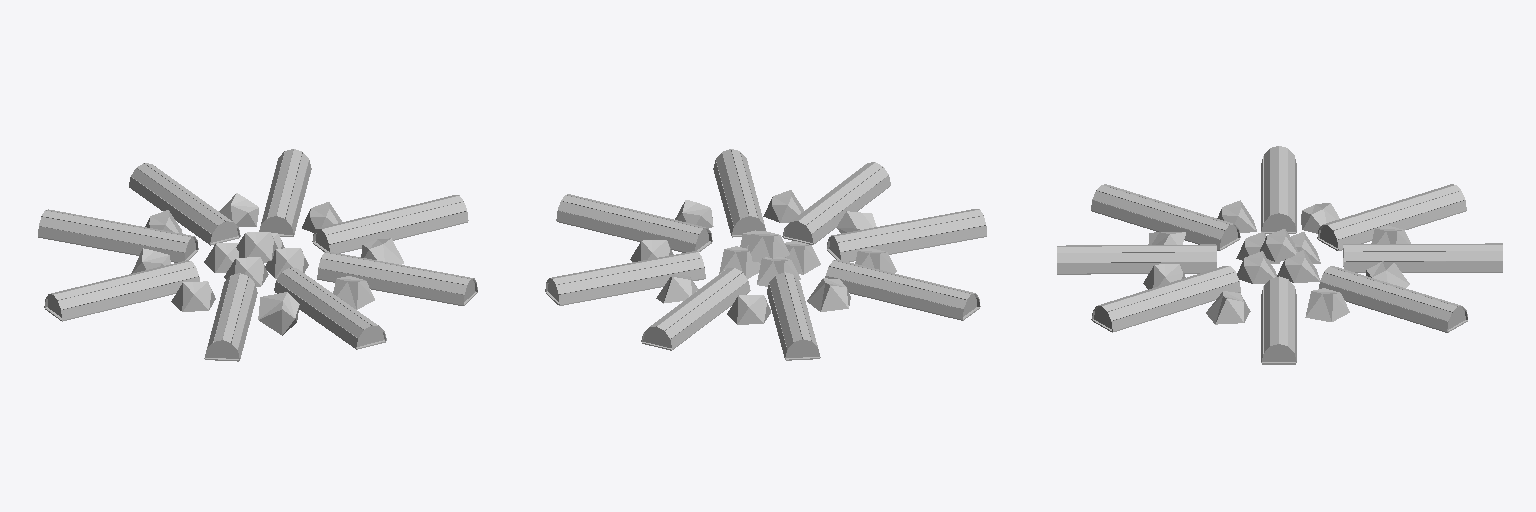
The model's file is Fogata.obj.
The picture shows the model from 3 angles: view 1: azimuth 30°, elevation 25°; view 2: azimuth 150°, elevation 25°; view 3: azimuth 270°, elevation 25°; orthographic projection.
Parts seen in each view (by area): view 1: Cylinder.010_Cylinder.017, Cylinder.013_Cylinder.020, Cylinder.009_Cylinder.016, Cylinder.016_Cylinder.023, Cylinder.011_Cylinder.018, Cylinder.014_Cylinder.021, Icosphere.012_Icosphere.015, Cylinder.015_Cylinder.022, Cylinder.012_Cylinder.019, Icosphere.007_Icosphere.010, Icosphere.006_Icosphere.009, Icosphere_Icosphere.003 (+4 smaller); view 2: Cylinder.012_Cylinder.019, Cylinder.015_Cylinder.022, Cylinder.013_Cylinder.020, Cylinder.009_Cylinder.016, Cylinder.011_Cylinder.018, Cylinder.014_Cylinder.021, Icosphere.012_Icosphere.015, Cylinder.010_Cylinder.017, Cylinder.016_Cylinder.023, Icosphere.005_Icosphere.008, Icosphere.004_Icosphere.007, Icosphere_Icosphere.003 (+5 smaller); view 3: Cylinder.016_Cylinder.023, Cylinder.011_Cylinder.018, Cylinder.014_Cylinder.021, Cylinder.012_Cylinder.019, Cylinder.015_Cylinder.022, Cylinder.010_Cylinder.017, Icosphere.012_Icosphere.015, Cylinder.013_Cylinder.020, Cylinder.009_Cylinder.016, Icosphere.002_Icosphere.005, Icosphere.001_Icosphere.004, Icosphere.005_Icosphere.008 (+4 smaller).
Boxes of the visible parts, <box> form: Cylinder.010_Cylinder.017: <box>38,209,198,262</box>; Cylinder.013_Cylinder.020: <box>312,195,468,253</box>; Cylinder.009_Cylinder.016: <box>44,260,199,321</box>; Cylinder.016_Cylinder.023: <box>317,251,477,305</box>; Cylinder.011_Cylinder.018: <box>129,163,240,245</box>; Cylinder.014_Cylinder.021: <box>274,268,386,349</box>; Icosphere.012_Icosphere.015: <box>204,232,308,286</box>; Cylinder.015_Cylinder.022: <box>204,273,257,361</box>; Cylinder.012_Cylinder.019: <box>259,149,311,236</box>; Icosphere.007_Icosphere.010: <box>258,292,299,335</box>; Icosphere.006_Icosphere.009: <box>171,281,215,311</box>; Icosphere_Icosphere.003: <box>333,276,374,309</box>; Cylinder.012_Cylinder.019: <box>545,251,705,305</box>; Cylinder.015_Cylinder.022: <box>827,209,986,261</box>; Cylinder.013_Cylinder.020: <box>556,194,712,252</box>; Cylinder.009_Cylinder.016: <box>825,260,980,320</box>; Cylinder.011_Cylinder.018: <box>641,268,750,350</box>; Cylinder.014_Cylinder.021: <box>782,162,890,244</box>; Icosphere.012_Icosphere.015: <box>719,230,820,286</box>; Cylinder.010_Cylinder.017: <box>767,272,820,360</box>; Cylinder.016_Cylinder.023: <box>713,149,765,237</box>; Icosphere.005_Icosphere.008: <box>807,278,850,311</box>; Icosphere.004_Icosphere.007: <box>727,295,770,324</box>; Icosphere_Icosphere.003: <box>763,190,803,222</box>; Cylinder.016_Cylinder.023: <box>1091,266,1240,332</box>; Cylinder.011_Cylinder.018: <box>1343,243,1502,272</box>; Cylinder.014_Cylinder.021: <box>1057,244,1216,274</box>; Cylinder.012_Cylinder.019: <box>1319,266,1467,332</box>; Cylinder.015_Cylinder.022: <box>1091,184,1240,250</box>; Cylinder.010_Cylinder.017: <box>1317,184,1466,250</box>; Icosphere.012_Icosphere.015: <box>1236,229,1320,283</box>; Cylinder.013_Cylinder.020: <box>1261,276,1296,364</box>; Cylinder.009_Cylinder.016: <box>1261,146,1296,233</box>; Icosphere.002_Icosphere.005: <box>1305,288,1349,321</box>; Icosphere.001_Icosphere.004: <box>1206,291,1250,324</box>; Icosphere.005_Icosphere.008: <box>1301,203,1339,233</box>.
Bounding box in the file's own units: 1.56 × 0.1728 × 1.49.